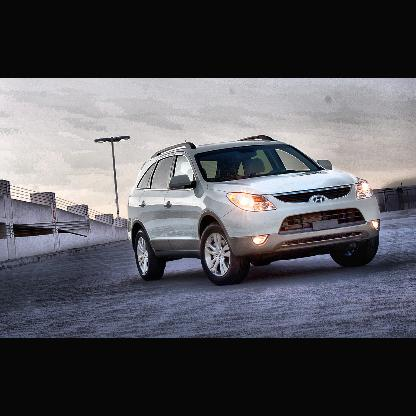Hyundai Veracruz SUV 2012: (130, 135, 384, 283)
